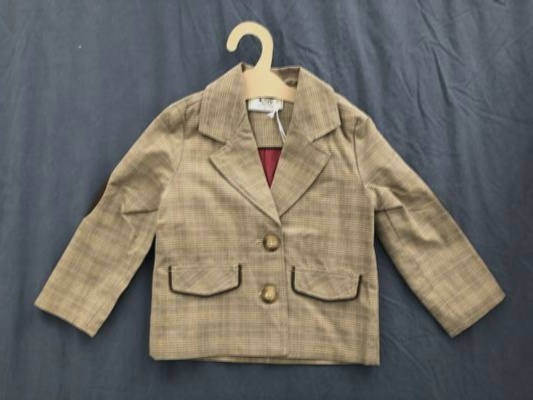Blazer: (38, 43, 476, 374)
